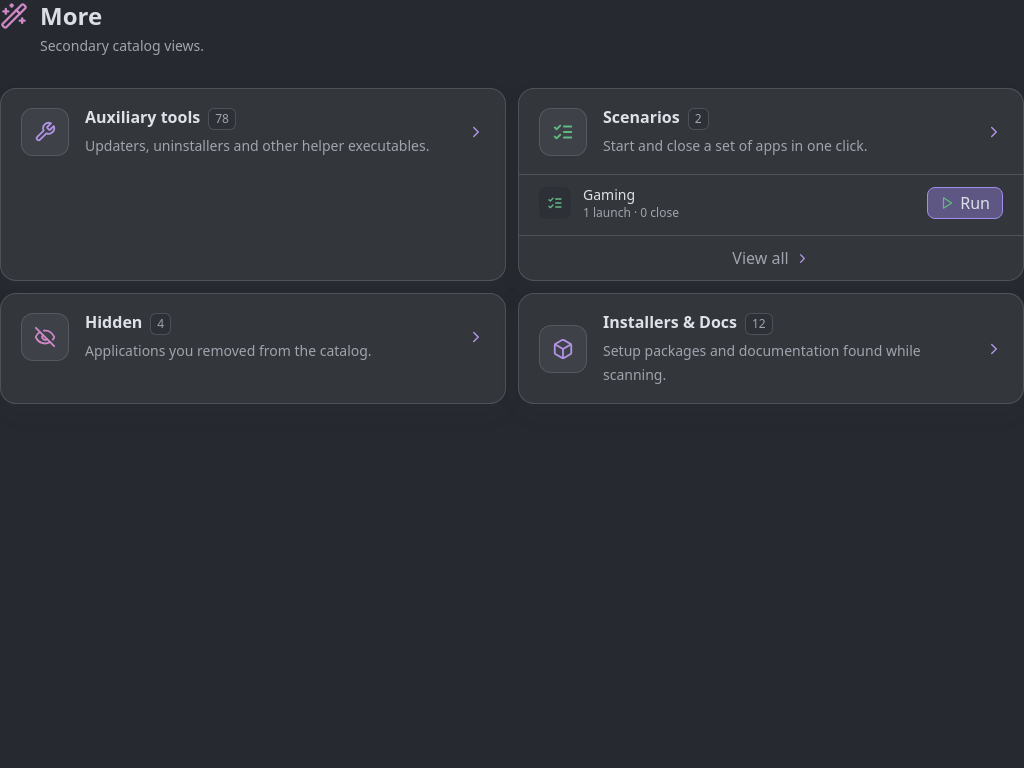
Test case: MorePage › opens every scenario over the page from the scenarios card
Click the button "View all" at coordinates (771, 258), box [519,235,1023,280]
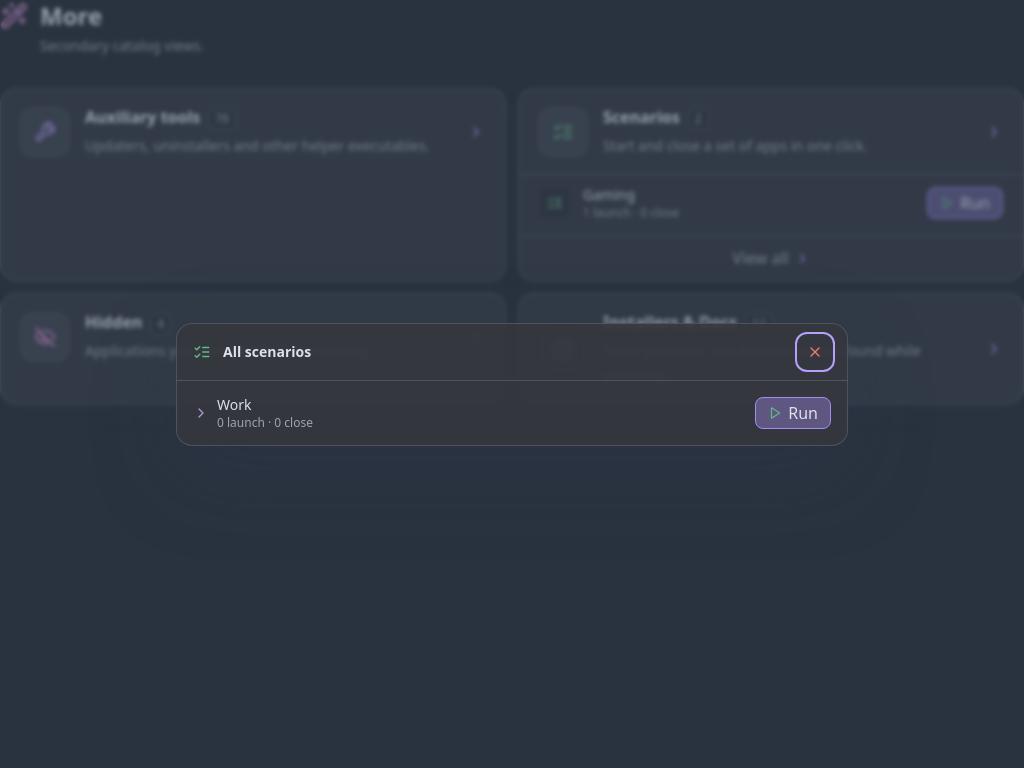
Result: the dialog "All scenarios" shows "Work" at [193,390,743,434]
